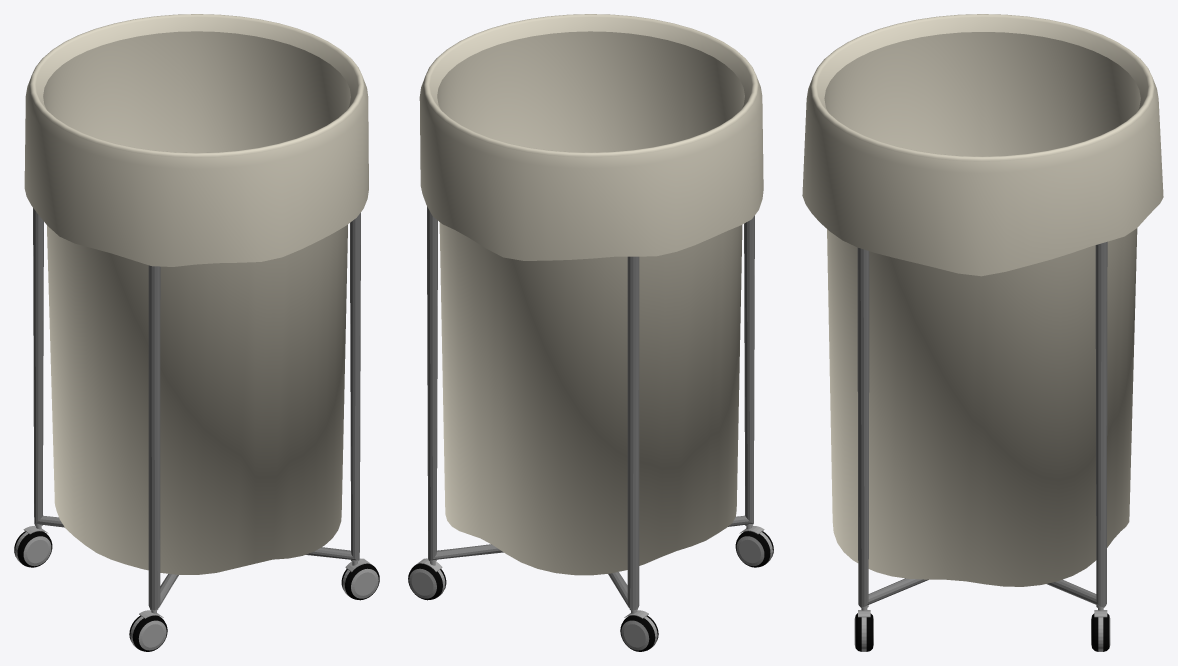
3 views of the same model, side by side, from view 1: azimuth 30°, elevation 25°; view 2: azimuth 150°, elevation 25°; view 3: azimuth 270°, elevation 25° (orthographic). The views are drawn at different scales.
Parts seen in each view (by area): view 1: D-1; view 2: D-1; view 3: D-1.
Part boxes in pixels (box(x1,y1,x2,y2)): D-1: box(14, 14, 379, 651); D-1: box(408, 14, 773, 651); D-1: box(802, 14, 1163, 651).
Size of the model in its own units: 63.81 by 101 by 64.35.
